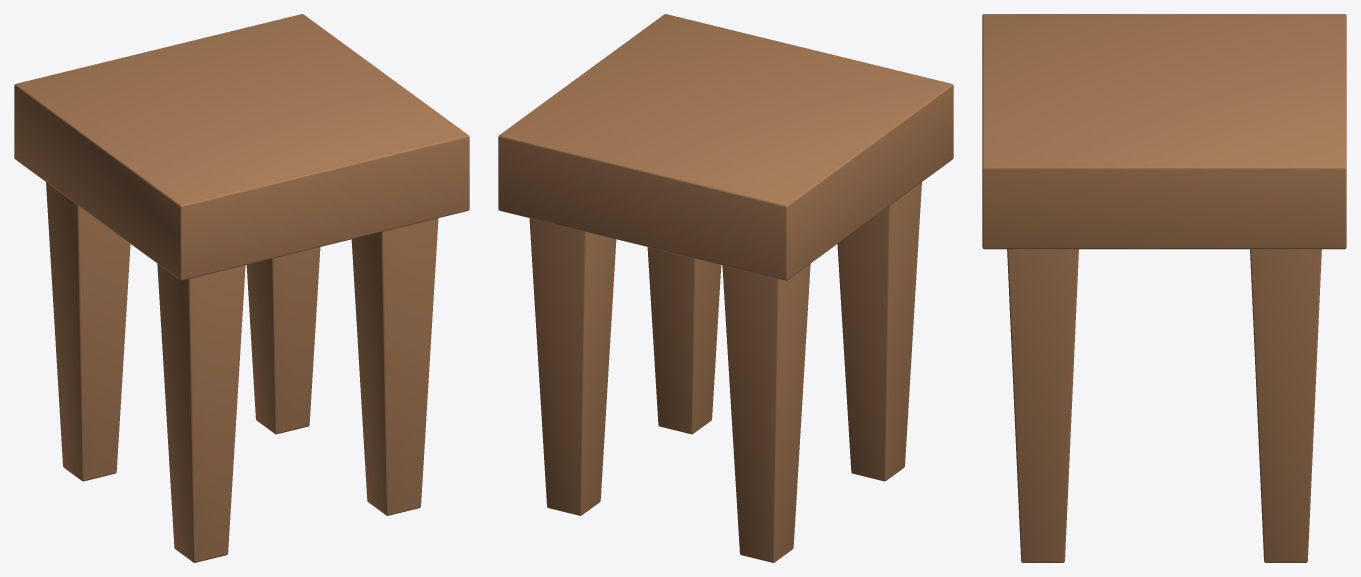
The model's file is flower_stand.fbx.
The picture shows the model from 3 angles, left to right: view 1: azimuth 30°, elevation 25°; view 2: azimuth 150°, elevation 25°; view 3: azimuth 270°, elevation 25°; orthographic projection. The views are drawn at different scales.
Visible parts, largest first — view 1: FlowerStand; view 2: FlowerStand; view 3: FlowerStand.
Boxes of the visible parts, bbox=[...] form: FlowerStand: bbox=[14, 14, 469, 562]; FlowerStand: bbox=[498, 14, 953, 562]; FlowerStand: bbox=[982, 14, 1346, 562].
Bounding box in the file's own units: 40 × 50 × 40.
